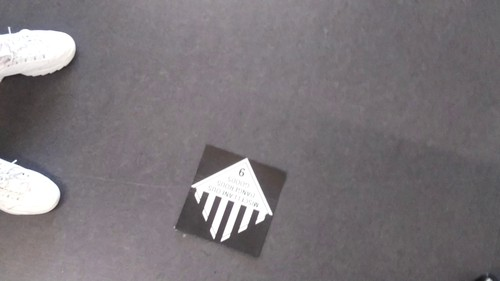misgoods: (186, 167, 279, 243)
